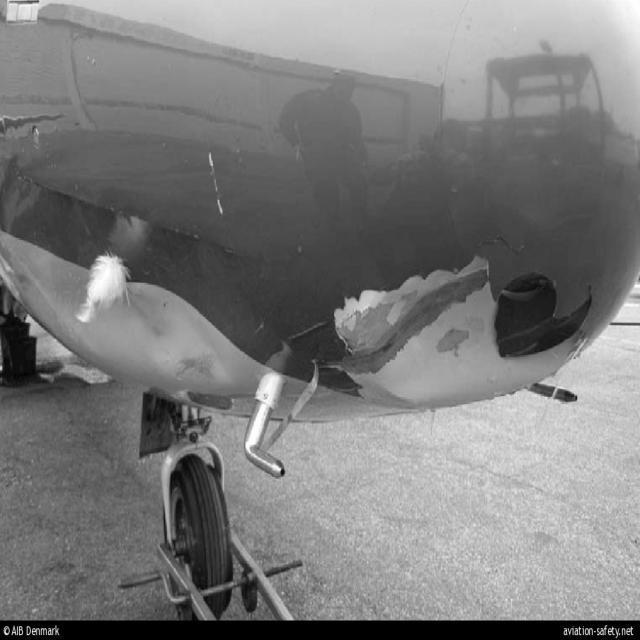crack: (479, 232, 530, 262)
dent: (380, 317, 452, 403), (118, 286, 175, 365), (187, 317, 236, 386)
